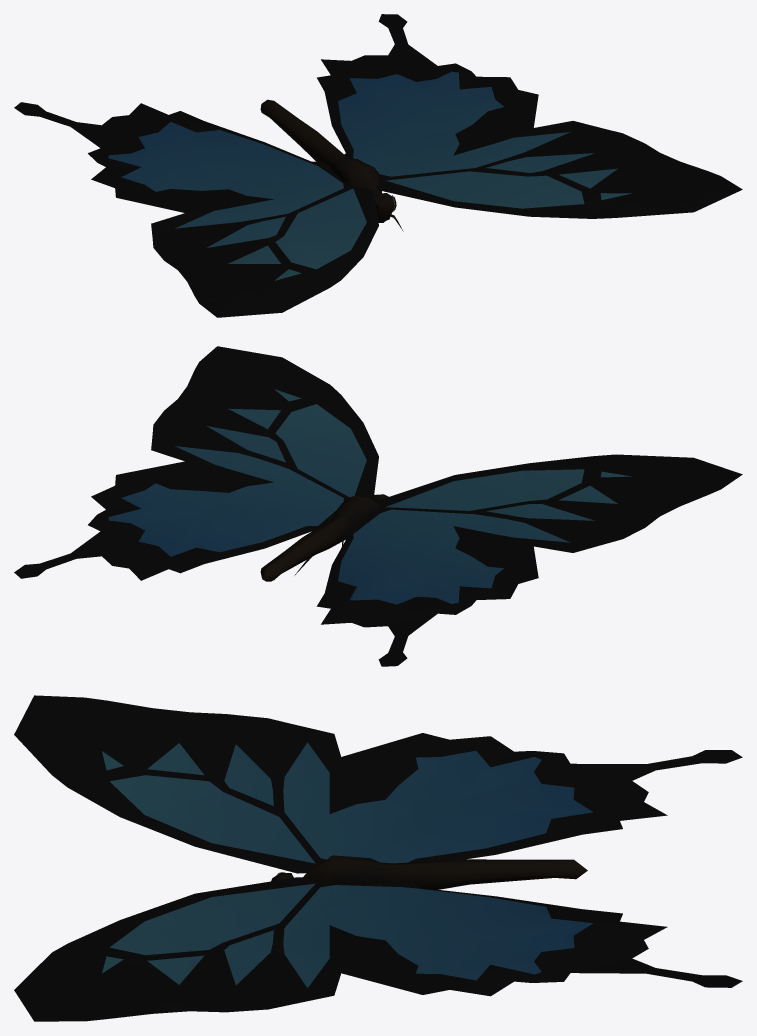
File: animals-flyinginsects-bluemorphobutterfly_v1.fbx
3 renders of one model, top to bottom at view 1: azimuth 30°, elevation 25°; view 2: azimuth 150°, elevation 25°; view 3: azimuth 270°, elevation 25°, orthographic. The views are drawn at different scales.
Visible parts, largest first — view 1: BlueMorphoButterfly.001; view 2: BlueMorphoButterfly.001; view 3: BlueMorphoButterfly.001.
Part boxes in pixels (x1,y1,x2,y2): BlueMorphoButterfly.001: (14, 14, 742, 317); BlueMorphoButterfly.001: (14, 346, 742, 666); BlueMorphoButterfly.001: (14, 695, 742, 1021).
Bounding box in the file's own units: 0.6561 × 0.0777 × 0.6198.
